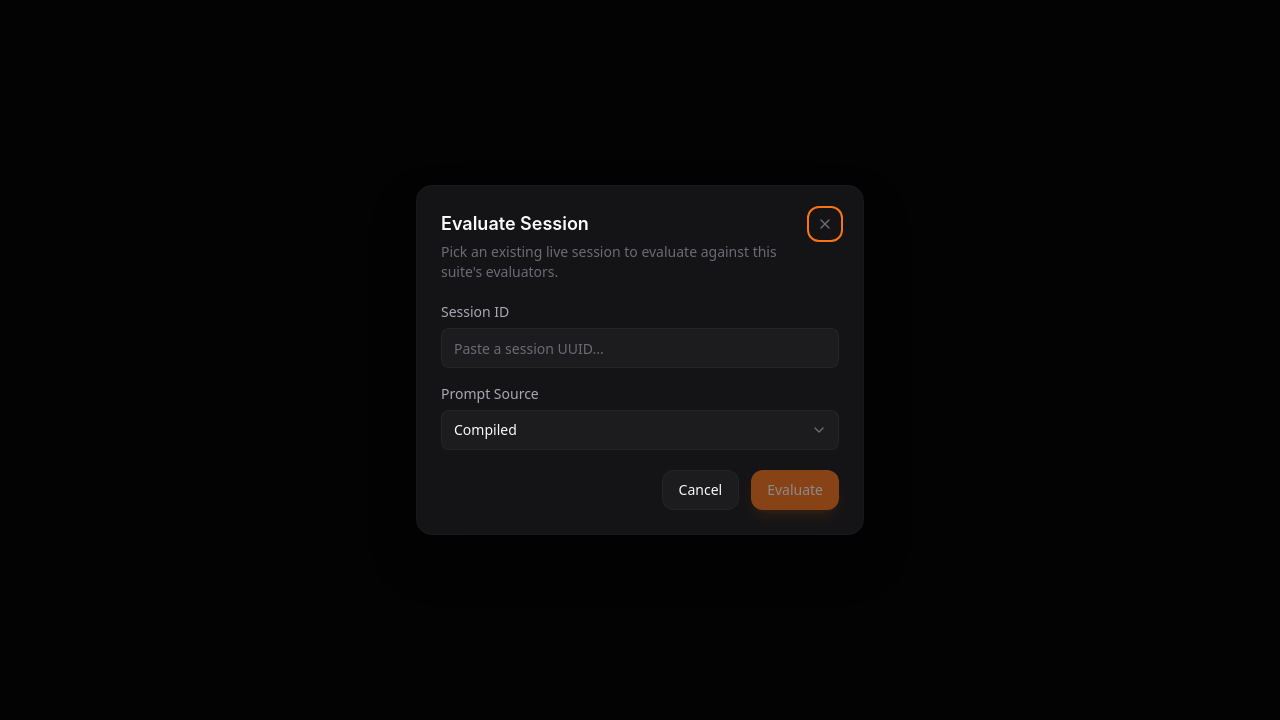
Test: EvaluateSessionDialog › enables Evaluate button when valid UUID is entered
Type "11111111-1111-1111-1111-111111111111" into the field labelled "Session ID".
click(640, 348); type("11111111-1111-1111-1111-111111111111")  # box left=441, top=328, right=839, bottom=368
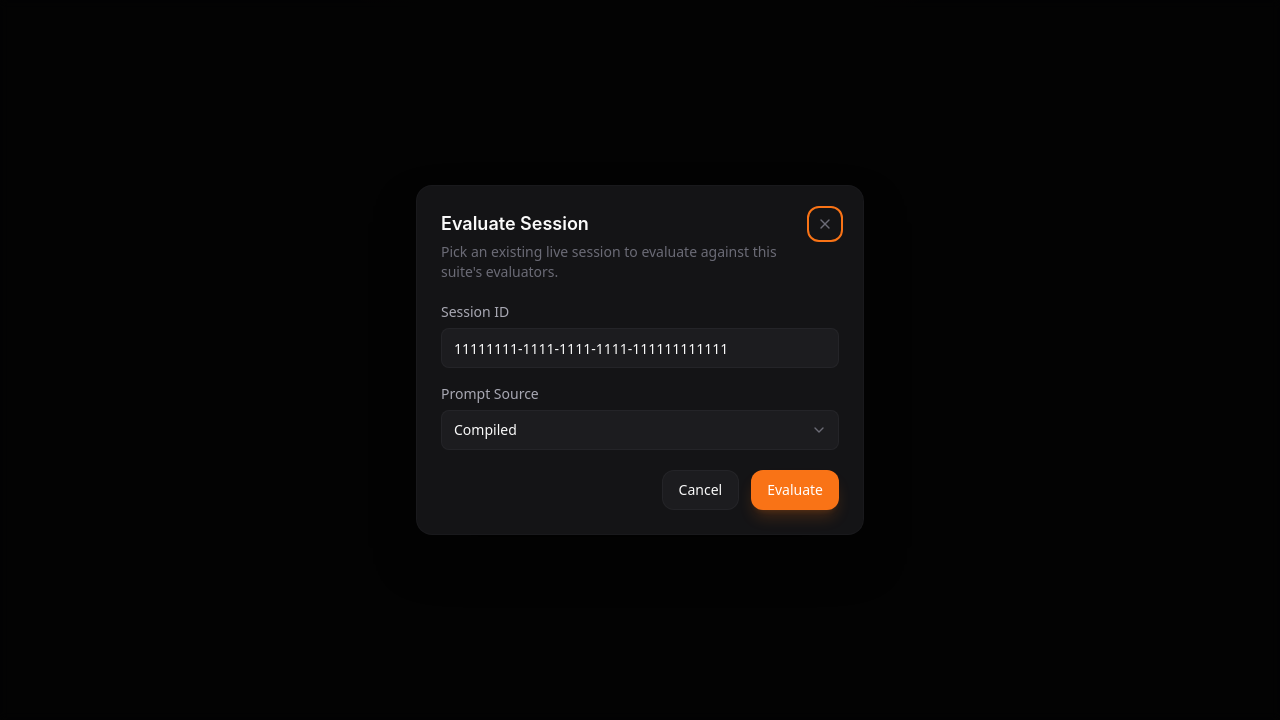
Result: the button "Evaluate" is enabled at left=751, top=470, right=839, bottom=510
